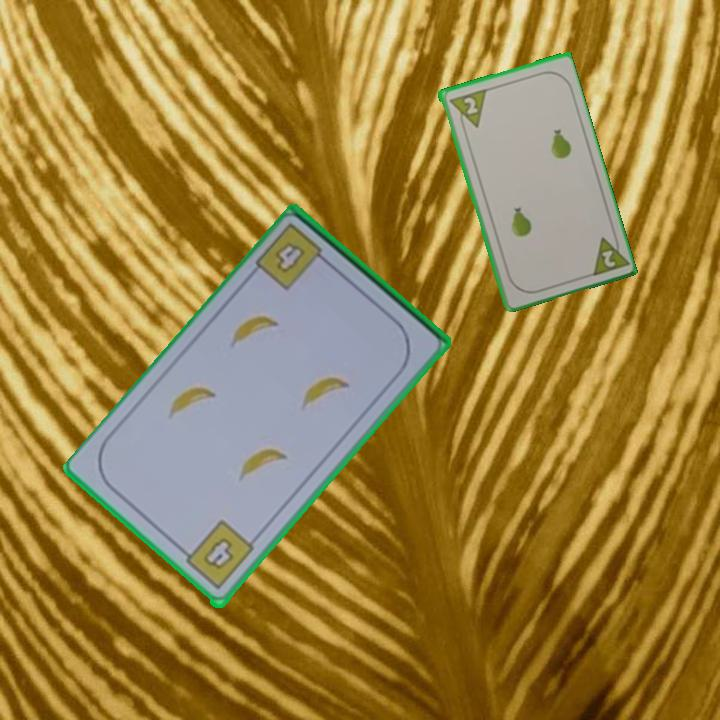2p: (586, 229, 630, 279), (445, 85, 488, 134)
4b: (176, 517, 257, 593), (271, 239, 304, 277)
